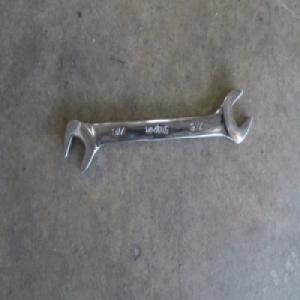Wrench: (67, 87, 254, 175)
